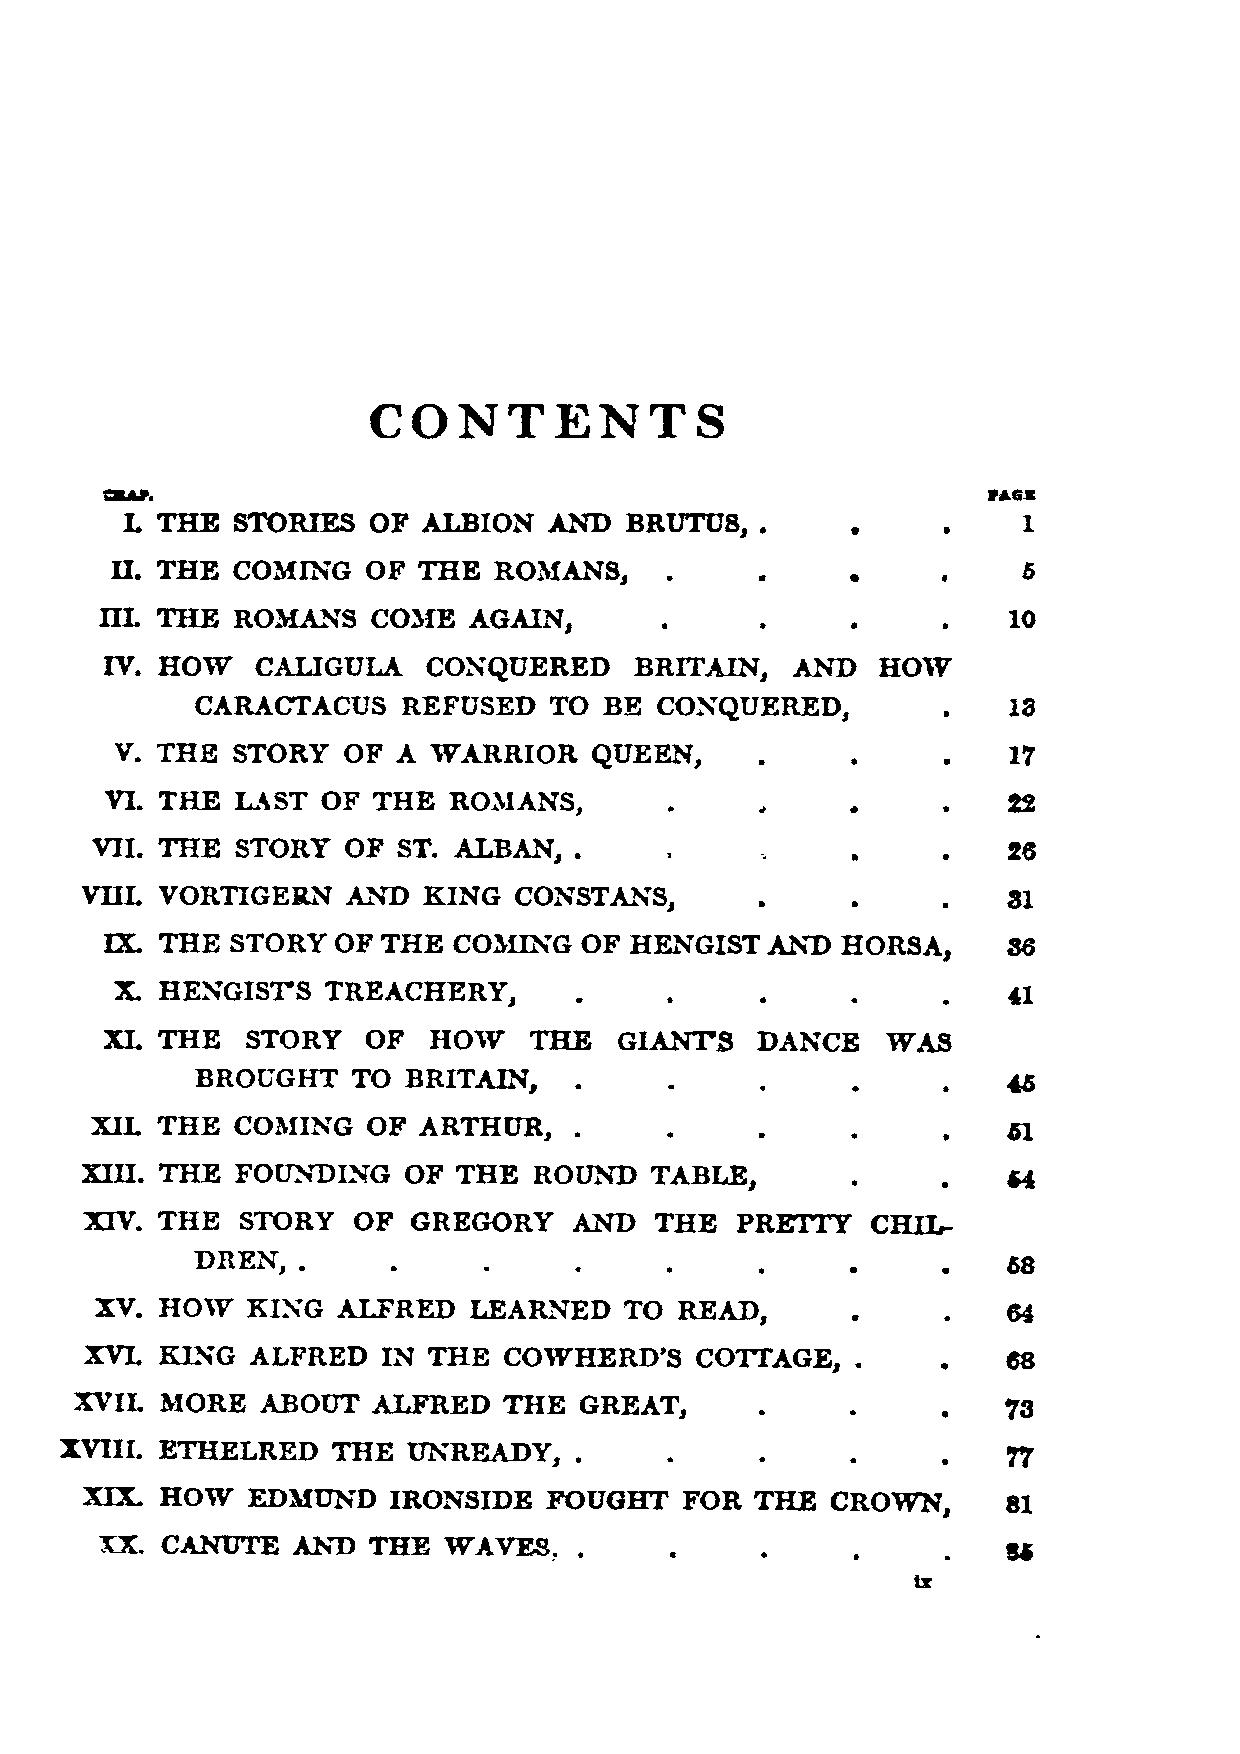TOC_chapter: (101, 647, 955, 725), (76, 1204, 957, 1278), (95, 1023, 955, 1095), (76, 1482, 951, 1520), (95, 925, 955, 964), (81, 1342, 841, 1376), (76, 1159, 760, 1194), (93, 1292, 772, 1326), (117, 505, 750, 539), (107, 735, 711, 770), (106, 548, 631, 586), (81, 879, 680, 913), (72, 1389, 692, 1421), (56, 1432, 564, 1469), (97, 784, 588, 820), (97, 600, 576, 636), (85, 1108, 554, 1145), (93, 1530, 562, 1563), (86, 833, 566, 866), (107, 977, 519, 1009)
TOC_pagenumber: (1001, 742, 1037, 769), (1004, 788, 1039, 815), (1002, 1440, 1033, 1469), (1006, 837, 1040, 862), (1004, 1537, 1033, 1563), (1002, 1491, 1032, 1518), (1002, 1394, 1033, 1420), (1002, 1346, 1033, 1372), (1006, 1164, 1037, 1189), (1005, 982, 1036, 1008), (1006, 1118, 1033, 1146), (1009, 694, 1039, 719), (1004, 884, 1033, 910), (1002, 1251, 1035, 1274), (1006, 605, 1035, 629), (1005, 1300, 1033, 1325), (1005, 1068, 1033, 1092), (1006, 934, 1035, 958), (1019, 558, 1037, 582), (1020, 513, 1037, 535)
chapter: (362, 399, 730, 442)
content_pagenumber: (913, 1571, 934, 1590)
